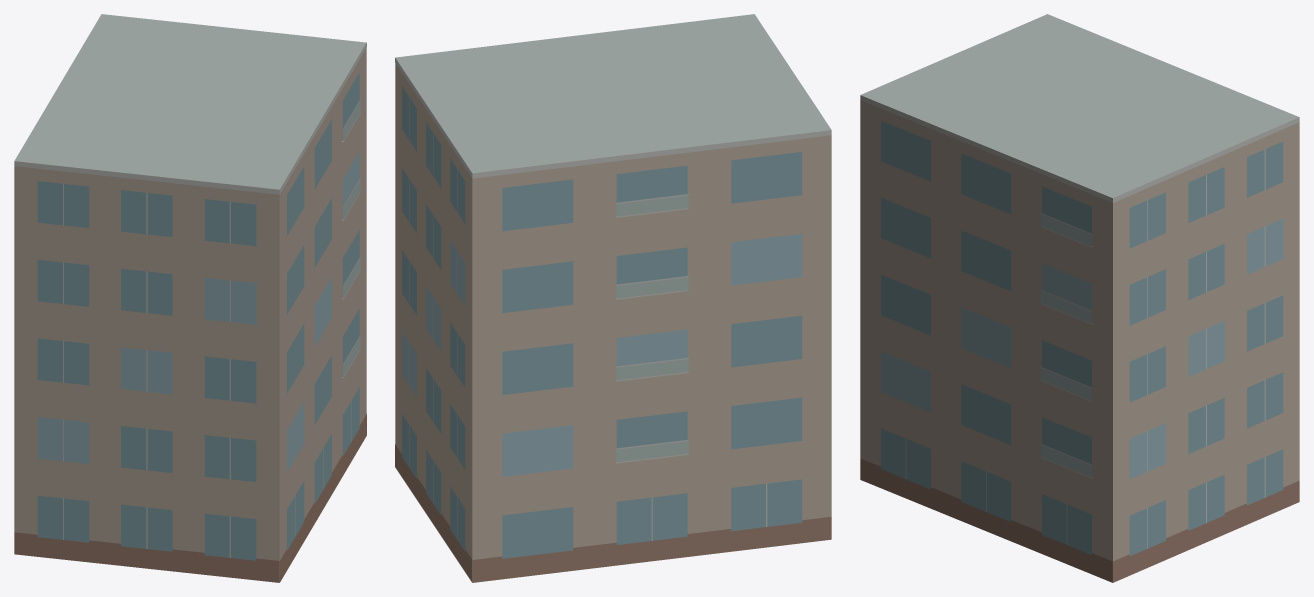
Rendered from survey-upis-33011988.glb.
3 renders of one model, left to right at view 1: azimuth 30°, elevation 25°; view 2: azimuth 150°, elevation 25°; view 3: azimuth 270°, elevation 25°, orthographic. The views are drawn at different scales.
Visible parts, largest first — view 1: survey-upis-33011988.tmp; view 2: survey-upis-33011988.tmp; view 3: survey-upis-33011988.tmp.
Part boxes in pixels (x1,y1,x2,y2): survey-upis-33011988.tmp: [14, 14, 366, 582]; survey-upis-33011988.tmp: [395, 14, 831, 582]; survey-upis-33011988.tmp: [860, 14, 1299, 582].
Bounding box in the file's own units: 19.83 × 19.3 × 19.99.
